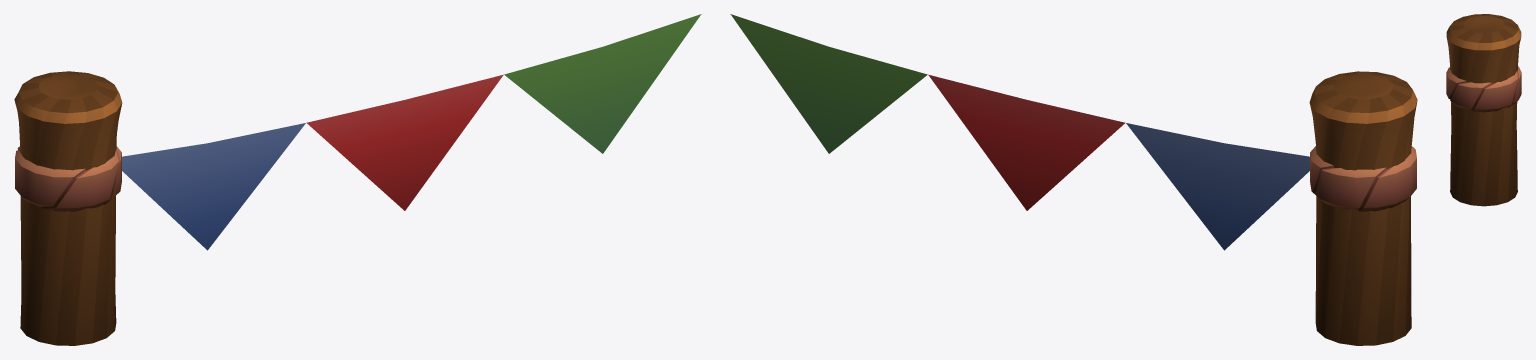
File: Deco-1-1.fbx
The picture shows the model from 3 angles, left to right: view 1: azimuth 30°, elevation 25°; view 2: azimuth 150°, elevation 25°; view 3: azimuth 270°, elevation 25°; orthographic projection. The views are drawn at different scales.
Visible parts, largest first — view 1: Deco-1-1; view 2: Deco-1-1; view 3: Deco-1-1.
Part boxes in pixels (x1,y1,x2,y2): Deco-1-1: (14,14,701,345); Deco-1-1: (730,14,1417,345); Deco-1-1: (1446,14,1521,206).
Bounding box in the file's own units: 307 × 103 × 42.16.
